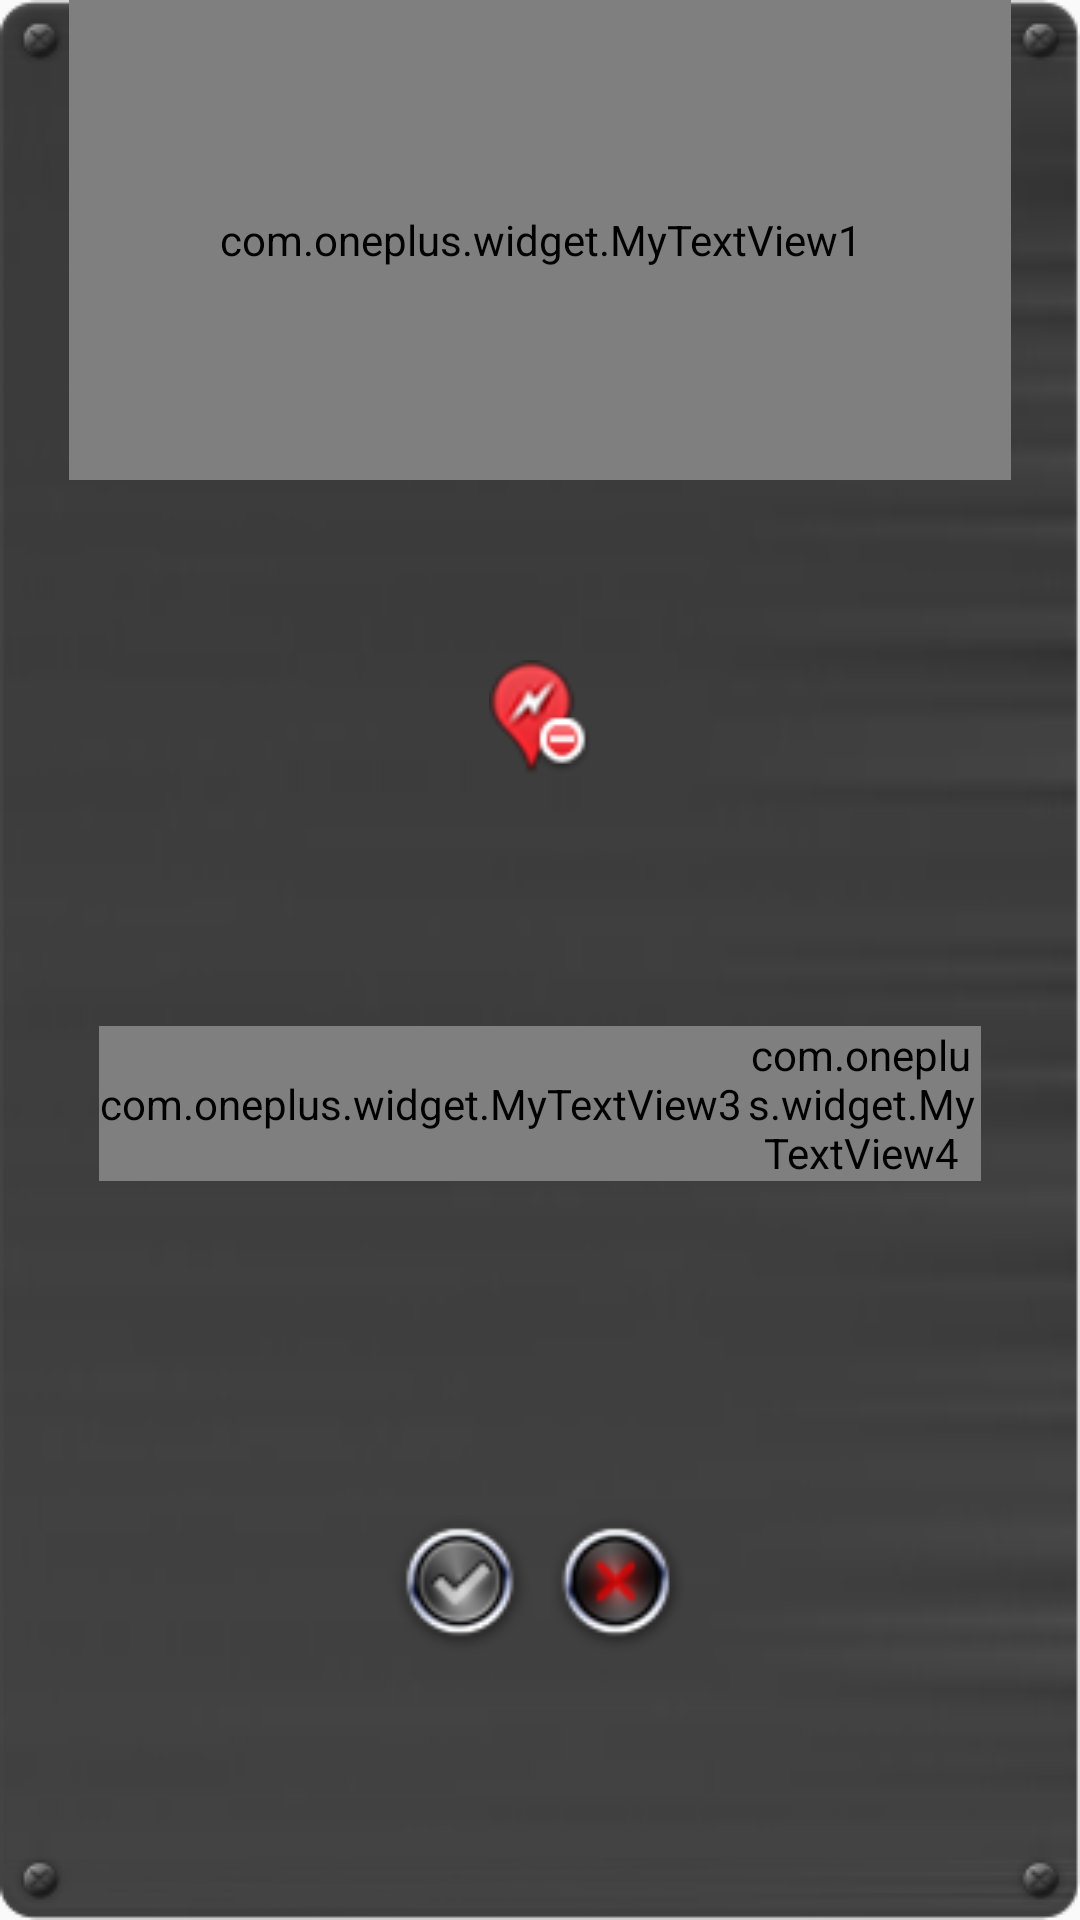

Screen size 1080×1920. Icon name, then its box in pixels as (x1, y1, x2, y2):
cancel on: (563, 1528, 669, 1634)
enemy delete: (492, 663, 586, 770)
